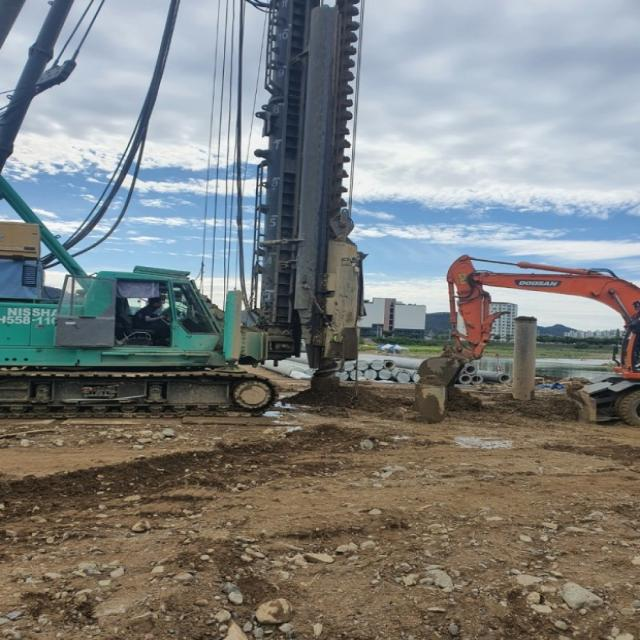excavator: (418, 255, 640, 429)
pile: (332, 0, 359, 211)
